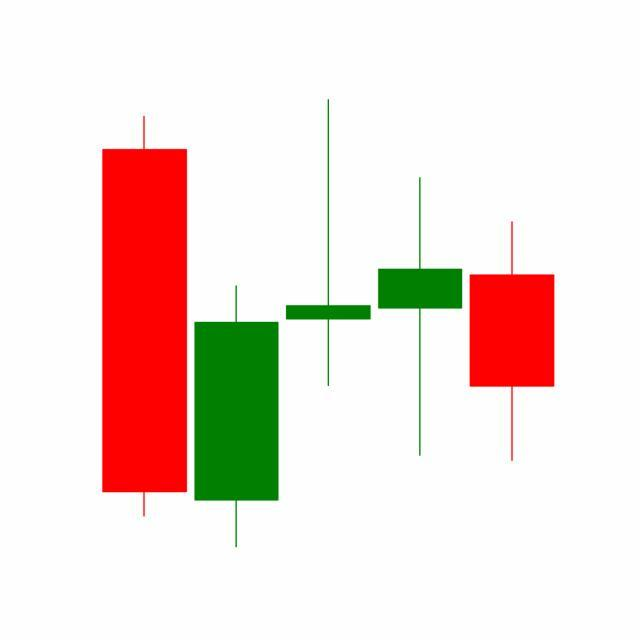Up-Down Gap Side-by-side White Lines: (190, 99, 467, 549)
